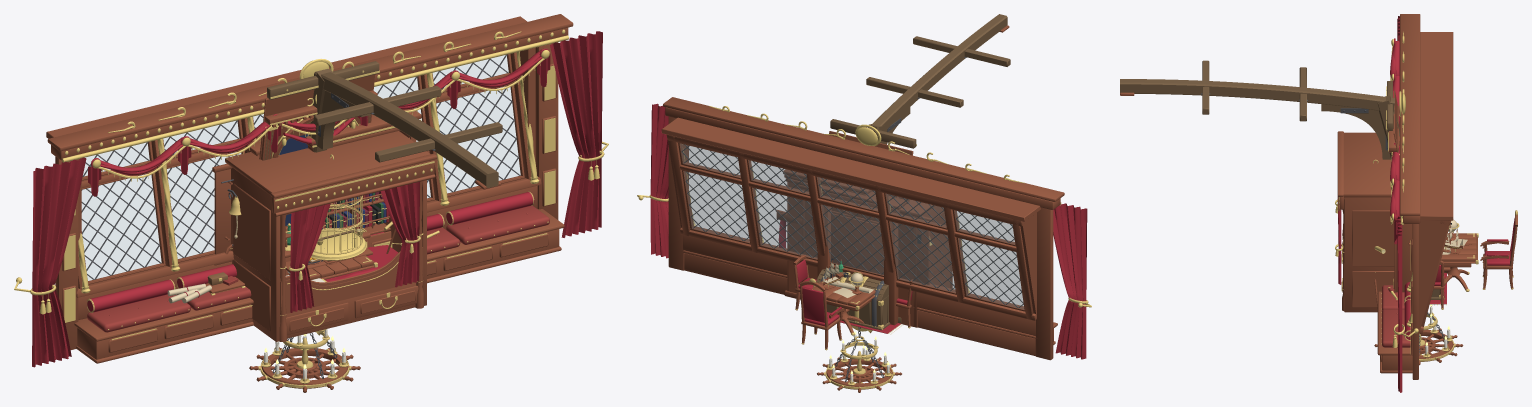
The model's file is captains_quarters.glb.
The picture shows the model from 3 angles, left to right: view 1: azimuth 30°, elevation 25°; view 2: azimuth 150°, elevation 25°; view 3: azimuth 270°, elevation 25°; orthographic projection. The views are drawn at different scales.
Parts seen in each view (by area): view 1: stern_gallery_kit__mat_mahogany, berth_kit__mat_mahogany, stern_gallery_kit__mat_velvet, stern_gallery_kit__mat_glass, stern_gallery_kit__mat_gold, hull_rib_kit__mat_oak_dark, berth_kit__mat_velvet, stern_gallery_kit__mat_hide, stern_gallery_kit__mat_iron, armory_bookcase_kit__mat_mahogany, parrot_alcove_kit__mat_mahogany, wheel_chandelier_kit__mat_mahogany (+8 smaller); view 2: stern_gallery_kit__mat_mahogany, stern_gallery_kit__mat_glass, stern_gallery_kit__mat_velvet, stern_gallery_kit__mat_iron, companionway_door_kit__mat_mahogany, hull_rib_kit__mat_oak_dark, berth_kit__mat_mahogany, armory_bookcase_kit__mat_mahogany, chart_table_kit__mat_mahogany, stern_gallery_kit__mat_gold, wheel_chandelier_kit__mat_mahogany, chart_table_kit__mat_velvet (+4 smaller); view 3: stern_gallery_kit__mat_mahogany, berth_kit__mat_mahogany, hull_rib_kit__mat_oak_dark, stern_gallery_kit__mat_velvet, chart_table_kit__mat_mahogany, stern_gallery_kit__mat_hide, stern_gallery_kit__mat_gold, armory_bookcase_kit__mat_mahogany, wheel_chandelier_kit__mat_mahogany, chart_table_kit__mat_velvet, wheel_chandelier_kit__mat_brass, parrot_alcove_kit__mat_mahogany.
Part boxes in pixels (left/top/right/bottom): stern_gallery_kit__mat_mahogany: left=46, top=14, right=573, bottom=363; berth_kit__mat_mahogany: left=205, top=131, right=437, bottom=341; stern_gallery_kit__mat_velvet: left=32, top=31, right=602, bottom=367; stern_gallery_kit__mat_glass: left=82, top=55, right=520, bottom=280; stern_gallery_kit__mat_gold: left=14, top=29, right=608, bottom=340; hull_rib_kit__mat_oak_dark: left=309, top=69, right=502, bottom=187; berth_kit__mat_velvet: left=290, top=181, right=420, bottom=312; stern_gallery_kit__mat_hide: left=87, top=205, right=549, bottom=332; stern_gallery_kit__mat_iron: left=81, top=54, right=520, bottom=279; armory_bookcase_kit__mat_mahogany: left=212, top=108, right=421, bottom=265; parrot_alcove_kit__mat_mahogany: left=259, top=74, right=377, bottom=264; wheel_chandelier_kit__mat_mahogany: left=249, top=347, right=360, bottom=392; stern_gallery_kit__mat_mahogany: left=661, top=97, right=1064, bottom=360; stern_gallery_kit__mat_glass: left=680, top=143, right=1024, bottom=309; stern_gallery_kit__mat_velvet: left=650, top=103, right=1087, bottom=359; stern_gallery_kit__mat_iron: left=681, top=144, right=1023, bottom=307; companionway_door_kit__mat_mahogany: left=776, top=185, right=907, bottom=325; hull_rib_kit__mat_oak_dark: left=866, top=14, right=1010, bottom=144; berth_kit__mat_mahogany: left=798, top=184, right=952, bottom=327; armory_bookcase_kit__mat_mahogany: left=783, top=169, right=932, bottom=299; chart_table_kit__mat_mahogany: left=793, top=254, right=913, bottom=348; stern_gallery_kit__mat_gold: left=637, top=106, right=1091, bottom=307; wheel_chandelier_kit__mat_mahogany: left=817, top=357, right=901, bottom=392; chart_table_kit__mat_velvet: left=796, top=259, right=912, bottom=326; stern_gallery_kit__mat_mahogany: left=1377, top=14, right=1453, bottom=379; berth_kit__mat_mahogany: left=1337, top=131, right=1394, bottom=312; hull_rib_kit__mat_oak_dark: left=1120, top=60, right=1399, bottom=159; stern_gallery_kit__mat_velvet: left=1390, top=16, right=1411, bottom=392; chart_table_kit__mat_mahogany: left=1433, top=214, right=1517, bottom=308; stern_gallery_kit__mat_hide: left=1382, top=285, right=1410, bottom=347; stern_gallery_kit__mat_gold: left=1381, top=32, right=1418, bottom=354; armory_bookcase_kit__mat_mahogany: left=1393, top=216, right=1412, bottom=292; wheel_chandelier_kit__mat_mahogany: left=1374, top=328, right=1463, bottom=365; chart_table_kit__mat_velvet: left=1434, top=218, right=1515, bottom=285; wheel_chandelier_kit__mat_brass: left=1419, top=312, right=1455, bottom=361; parrot_alcove_kit__mat_mahogany: left=1388, top=90, right=1399, bottom=152.
Bounding box in the file's own units: 10.66 × 6.03 × 7.75.
